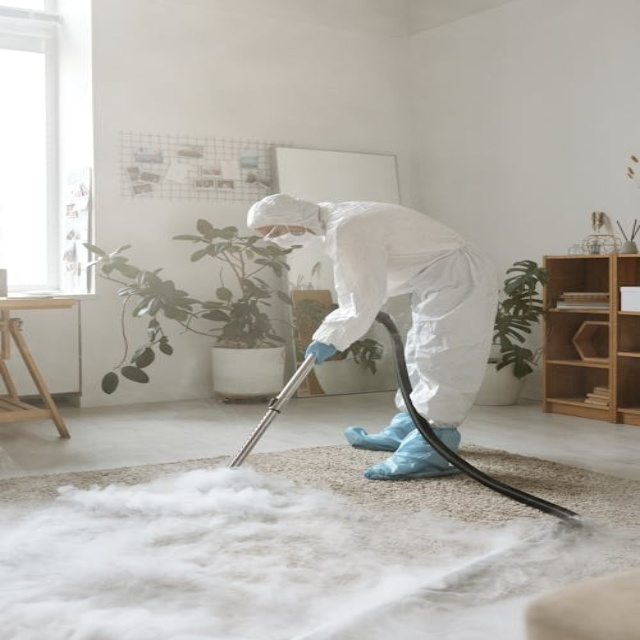Gafas: (258, 225, 312, 240)
Guantes: (305, 341, 338, 365)
Mascara: (268, 227, 317, 251)
